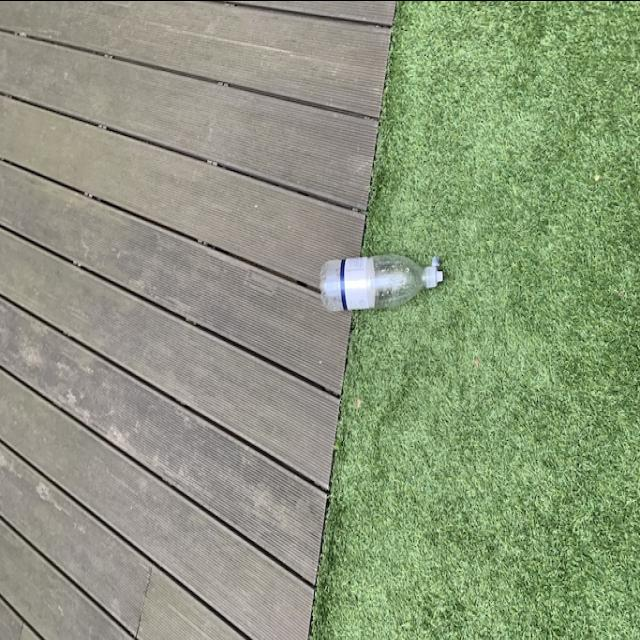PET: (320, 250, 448, 316)
